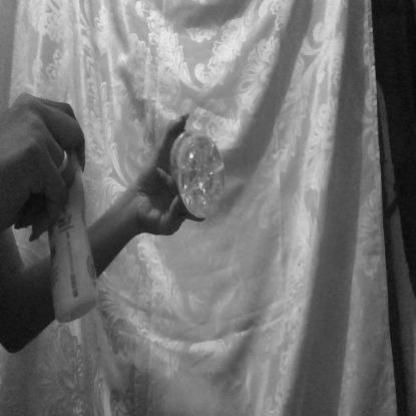Plastic Bottle: (150, 88, 255, 271)
